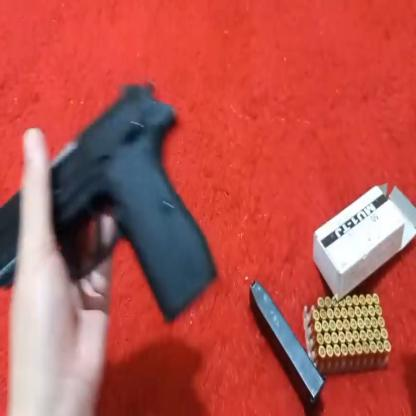handgun: (11, 76, 225, 333)
